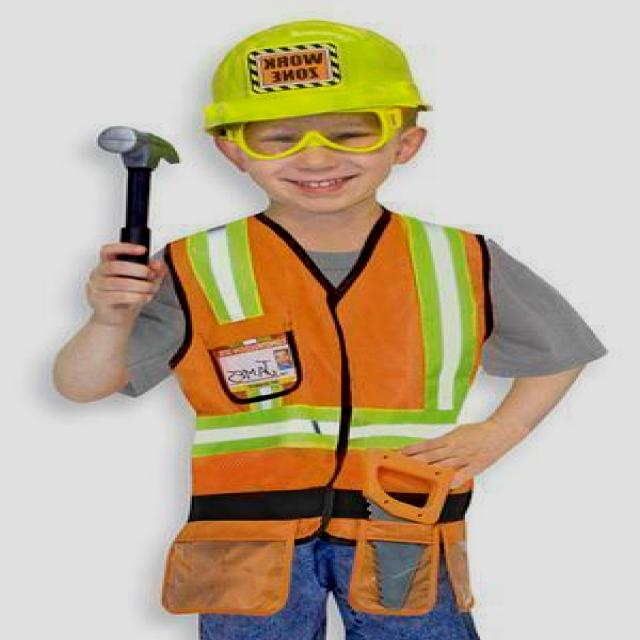face_nomask: (228, 112, 410, 204)
glasses: (230, 104, 401, 158)
hand_noglove: (401, 414, 531, 500), (68, 232, 160, 334)
head_helmet: (209, 21, 427, 129)
person: (134, 9, 512, 624)
vest: (175, 217, 495, 514)
